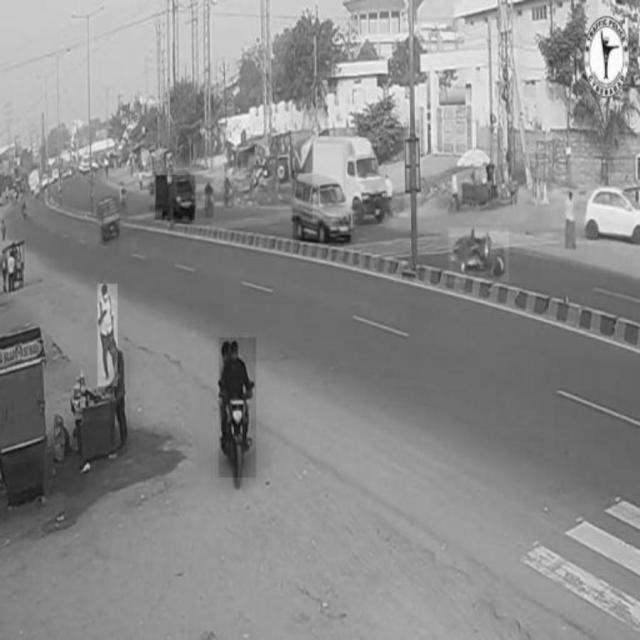accident: (449, 228, 509, 283)
person: (98, 284, 118, 386), (110, 346, 130, 446)
vehicle: (312, 137, 388, 221), (219, 338, 256, 478), (294, 176, 351, 243), (584, 184, 640, 244), (155, 176, 195, 221)
